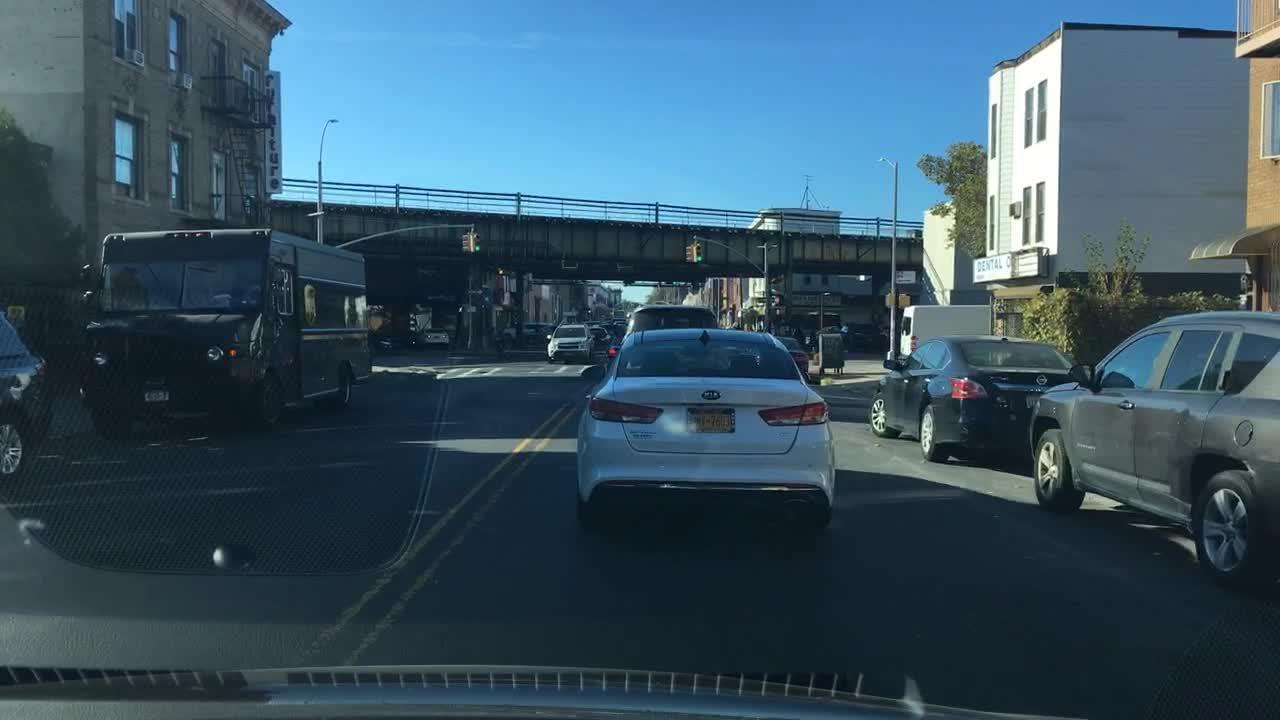Nissan: (1032, 372, 1055, 389)
kia: (700, 389, 725, 403)
